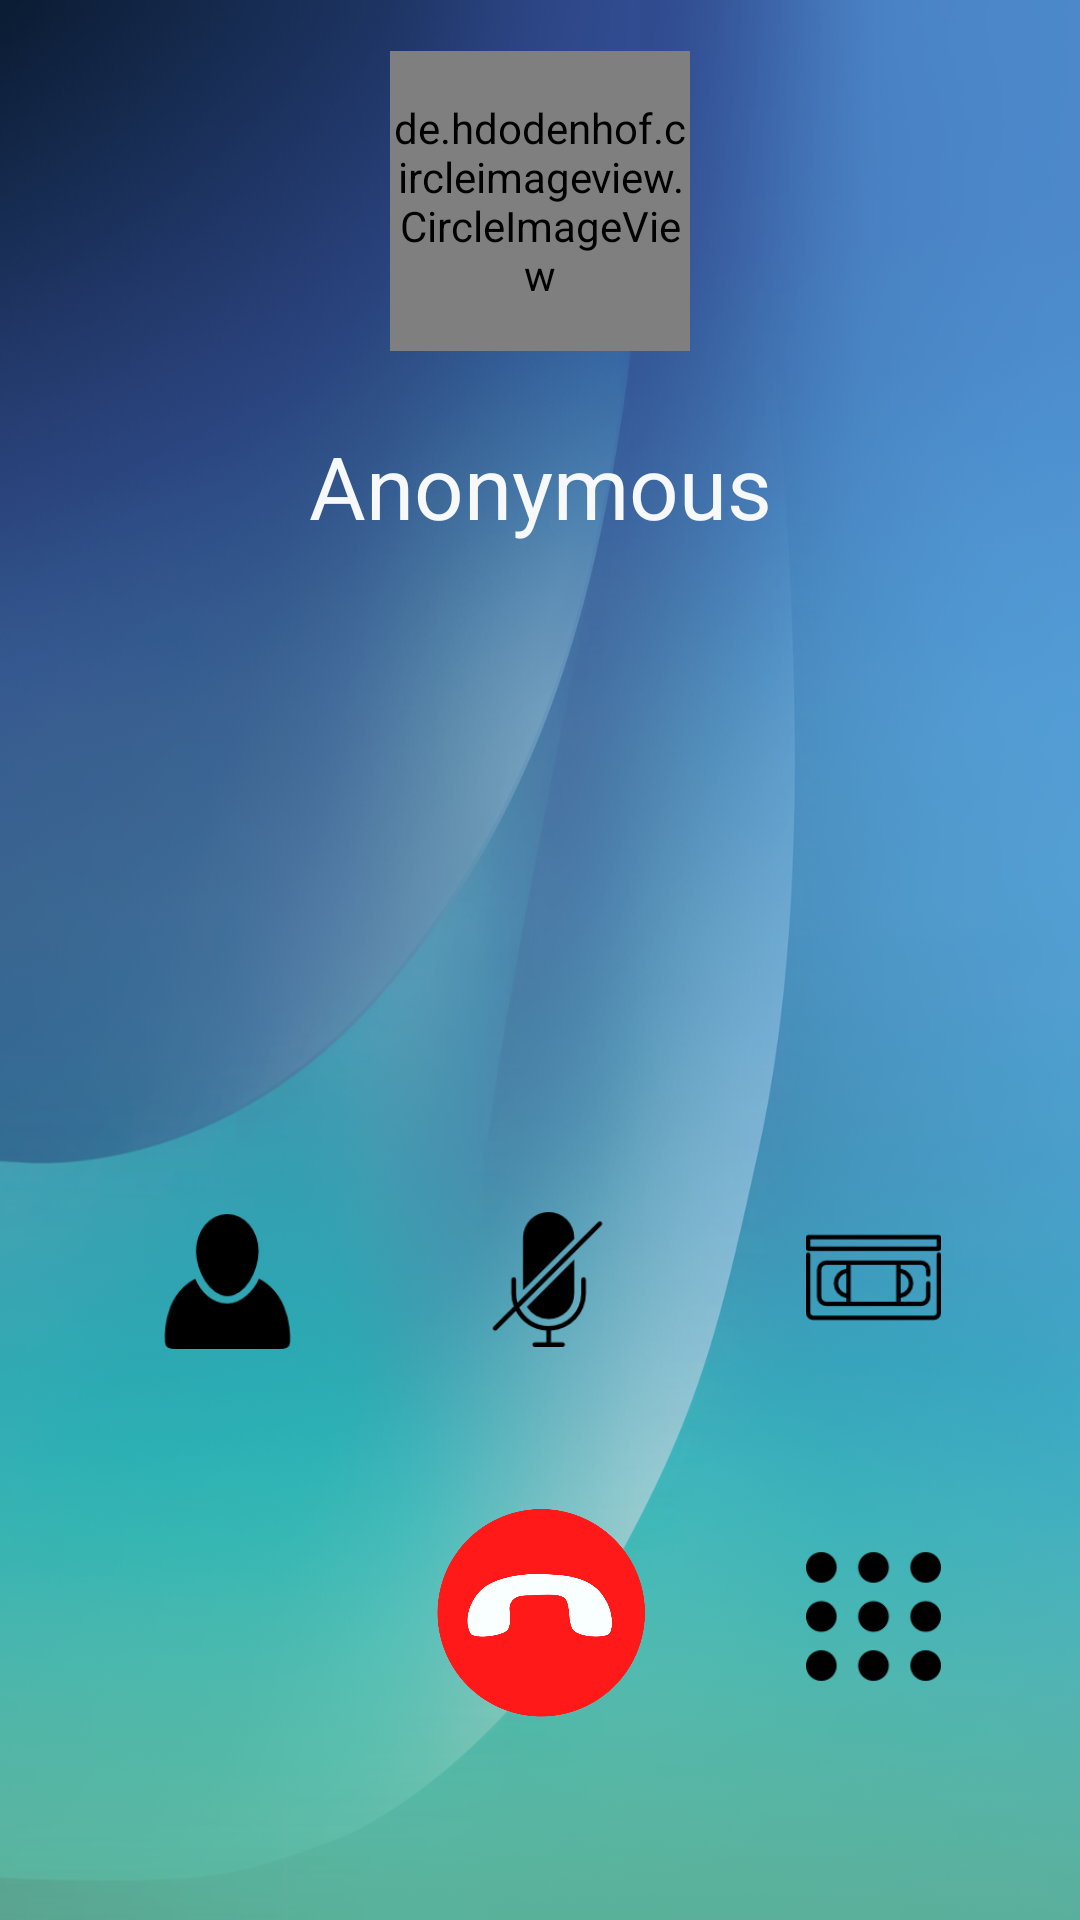

Icon click points for this 1080w x 1920h phone screenshot, format [x,y]:
9dots: [873,1616]
contact: [227,1281]
fakecall deny: [545,1614]
mute: [547,1279]
record: [873,1277]
